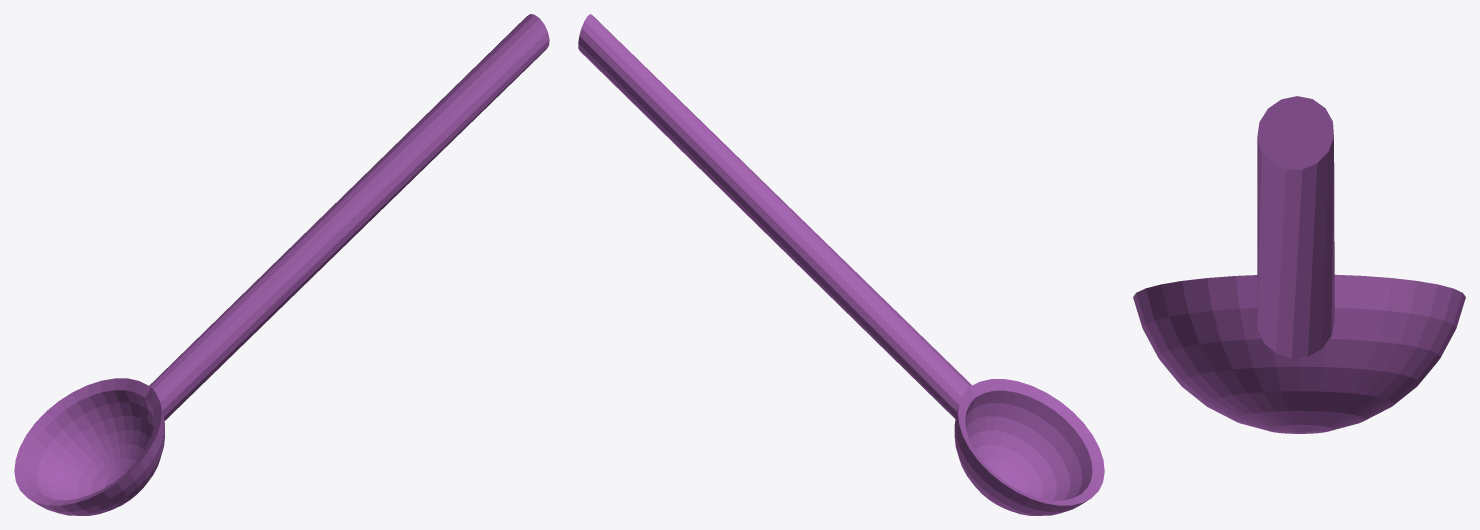
Rendered from braccioDellaCatapulta.fbx.
3 views of the same model, side by side, from view 1: azimuth 30°, elevation 25°; view 2: azimuth 150°, elevation 25°; view 3: azimuth 270°, elevation 25° (orthographic). The views are drawn at different scales.
Visible parts, largest first — view 1: Cylinder.001; view 2: Cylinder.001; view 3: Cylinder.001.
Boxes of the visible parts, x1,y1,x2,y2 form: Cylinder.001: (14, 14, 549, 515); Cylinder.001: (578, 14, 1104, 515); Cylinder.001: (1133, 96, 1465, 433).
Size of the model in its own units: 224 by 160 by 63.19.
